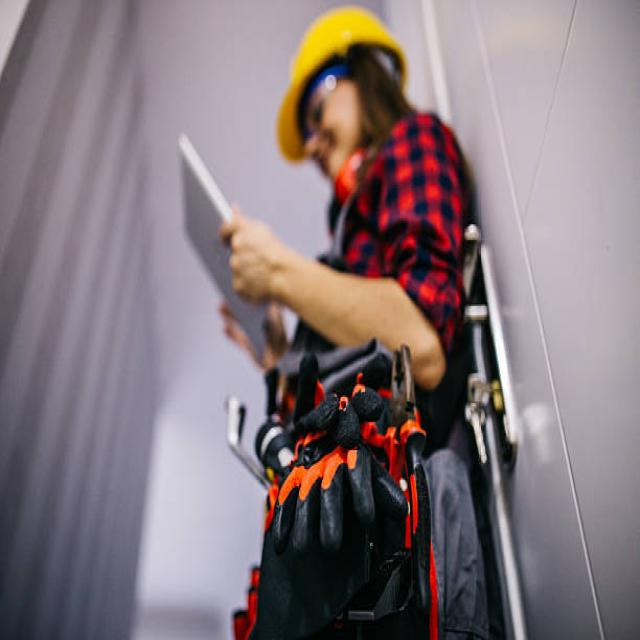gloves: (272, 441, 407, 549), (292, 350, 381, 444)
